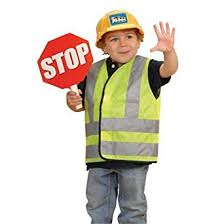Person_wearing_helmet: (93, 7, 143, 47)
